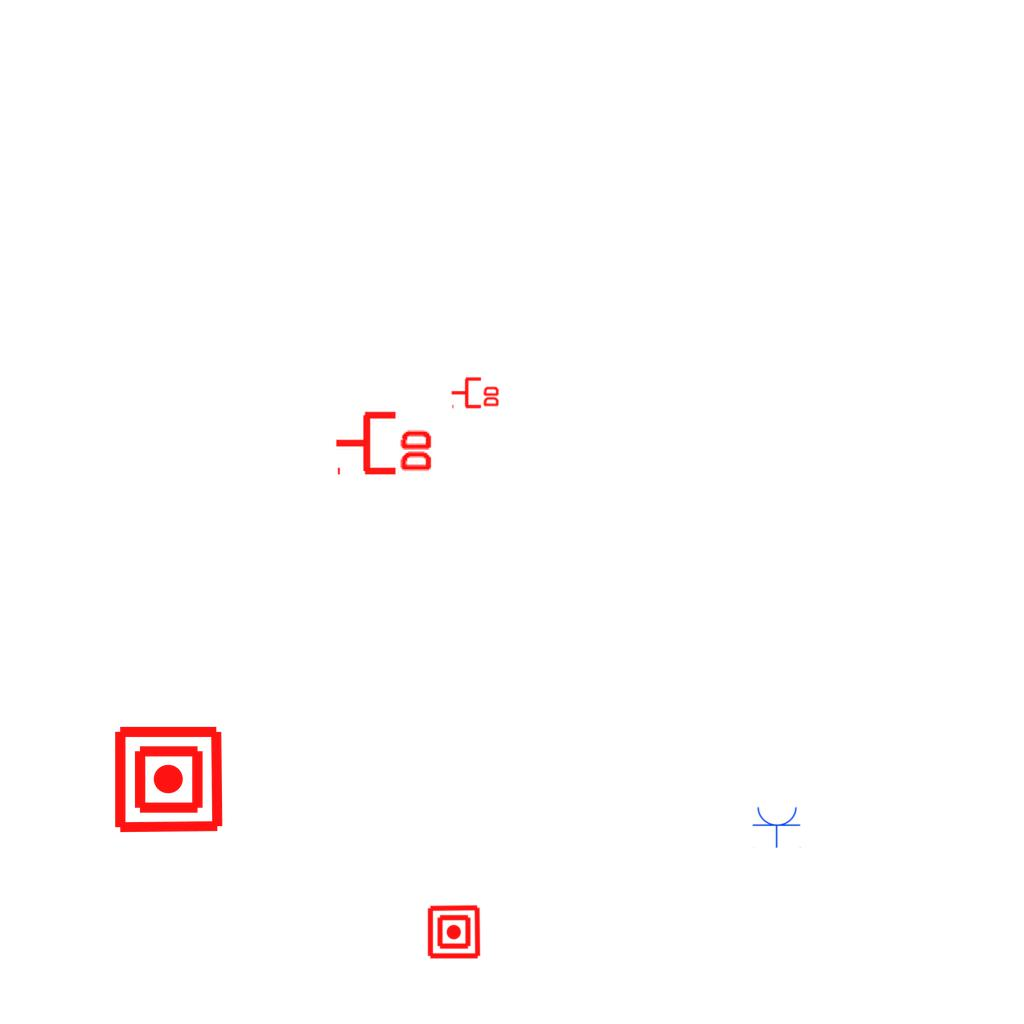Datenanschluss_zweifach: (333, 407, 436, 476), (450, 375, 501, 409)
NAM-Nichtautomatischer_Melder: (112, 723, 225, 836), (426, 904, 482, 960)
Schukosteckdose_einfach: (752, 805, 802, 848)
